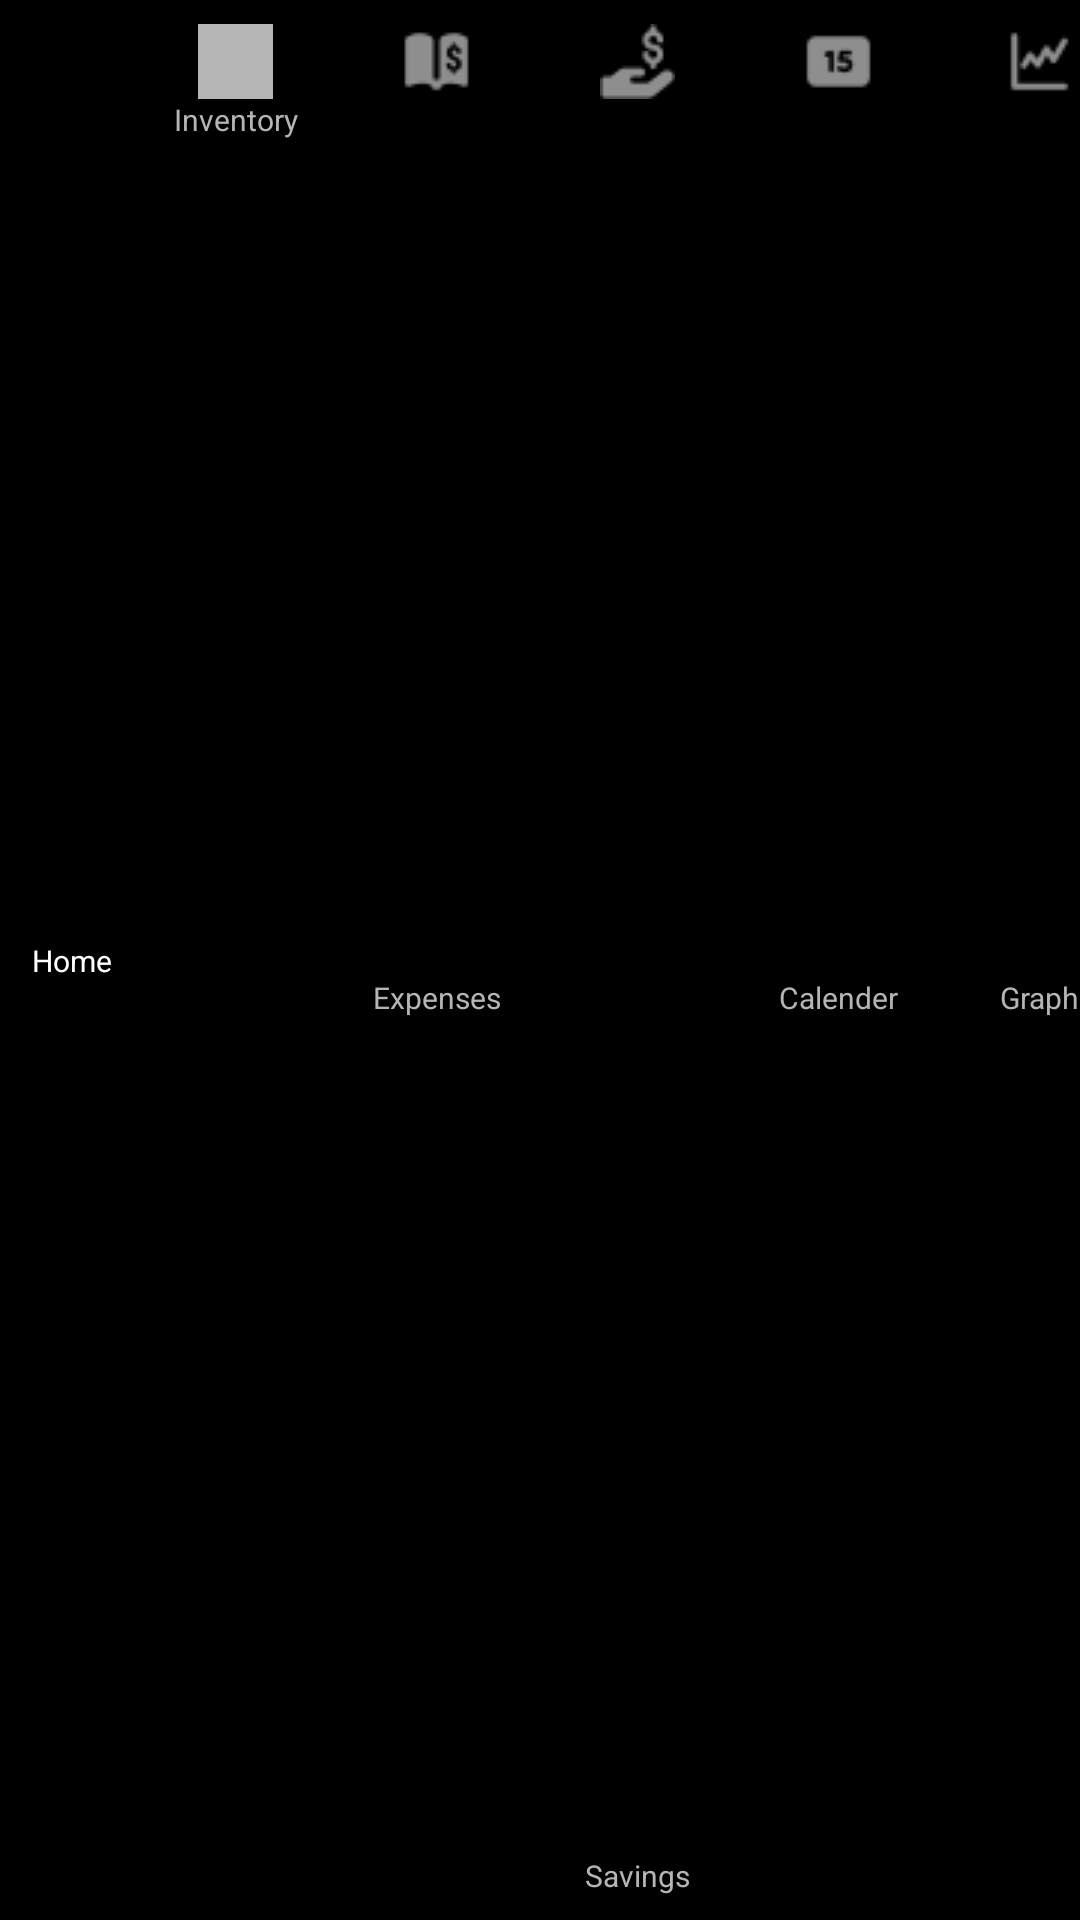

Locate icon controls on the screen. Image size 1080 x 1920, boxes as (x1, y1, x2, y2).
calender: (806, 35, 871, 88)
expenses: (404, 32, 469, 91)
graph: (1010, 32, 1069, 91)
savings: (600, 24, 675, 99)
